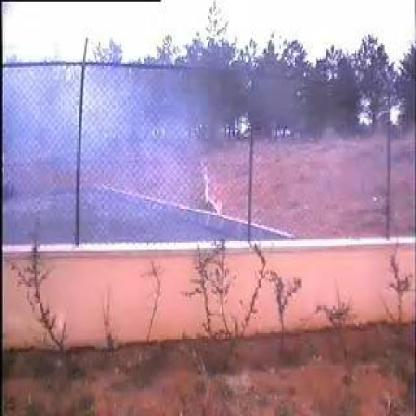-: (34, 60, 197, 233)
